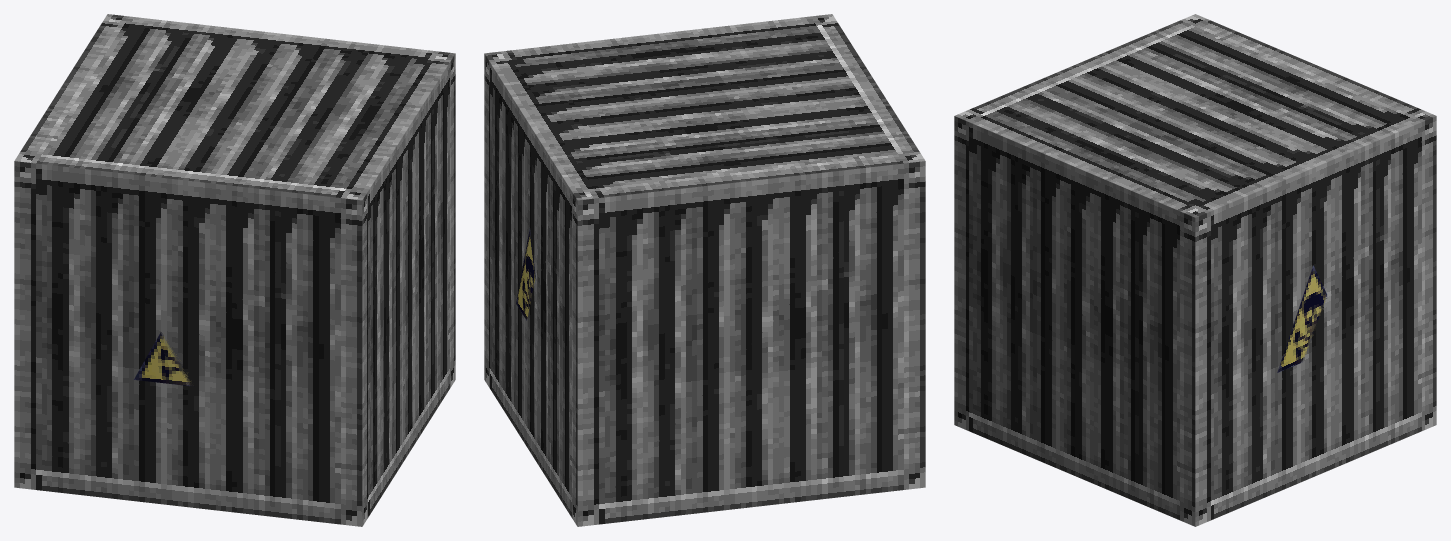
The model's file is primary_082.glb.
3 views of the same model, side by side, from view 1: azimuth 30°, elevation 25°; view 2: azimuth 150°, elevation 25°; view 3: azimuth 270°, elevation 25° (orthographic). The views are drawn at different scales.
Parts seen in each view (by area): view 1: Object; view 2: Object; view 3: Object.
Boxes of the visible parts, box(x1,y1,x2,y2) form: Object: box(14, 14, 455, 526); Object: box(484, 14, 925, 526); Object: box(954, 14, 1436, 526).
Bounding box in the file's own units: 1.68 × 1.18 × 1.68.
Materials: 2 (2 with a texture image).
